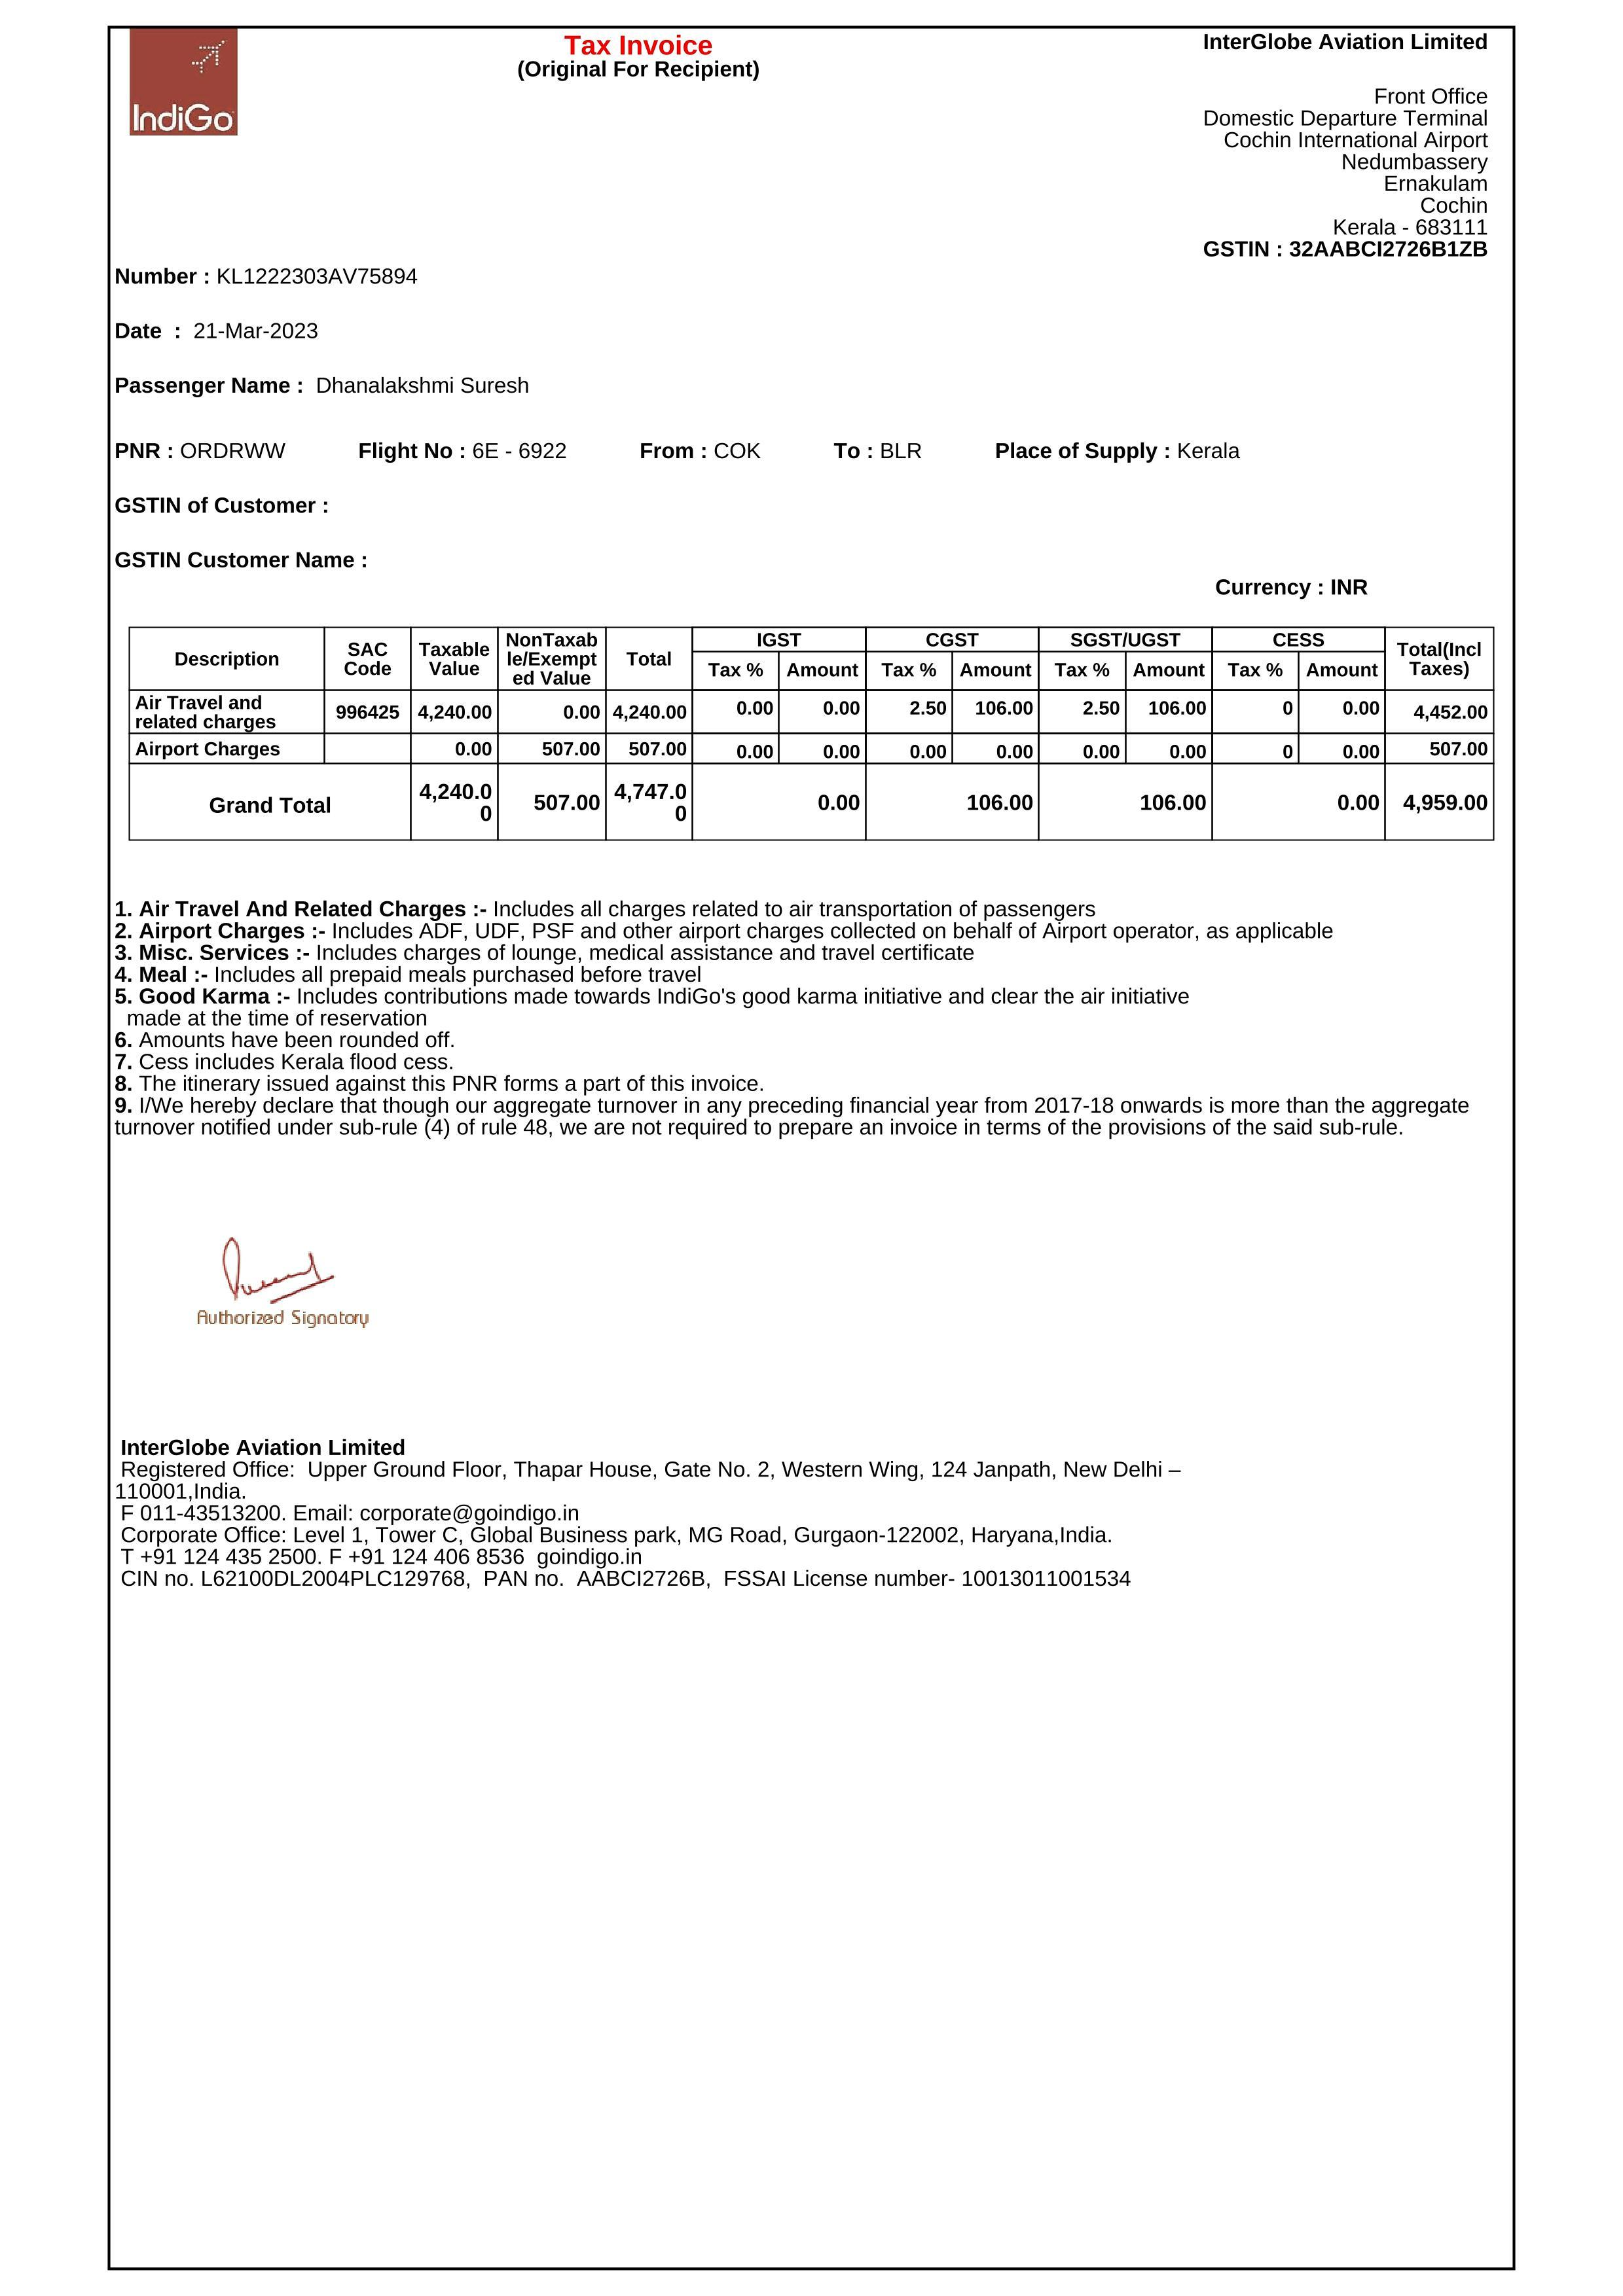InvoiceDate: (181, 314, 362, 349)
InvoiceNumber: (204, 262, 444, 293)
TotalAmount: (1395, 783, 1497, 814)
